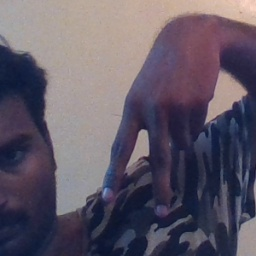Y: (93, 72, 197, 224)
